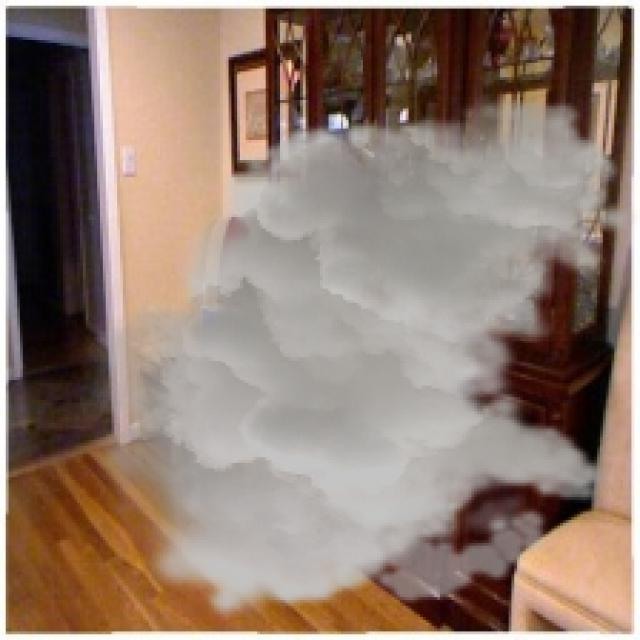smoke: (74, 94, 637, 623)
